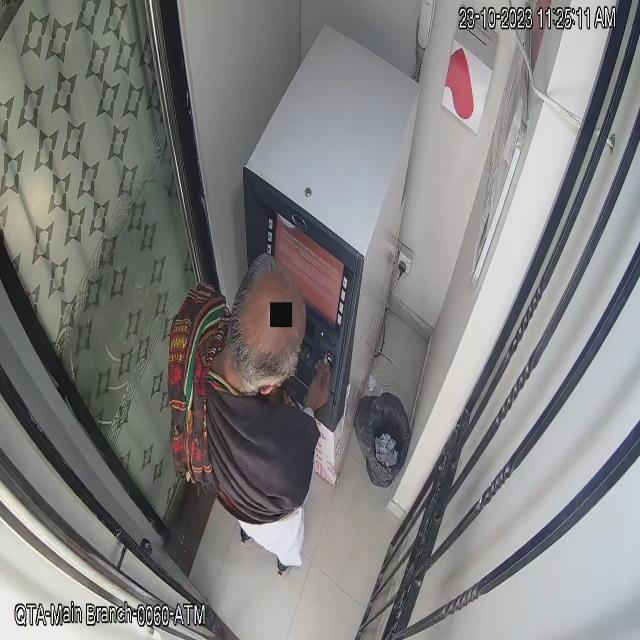atm-card: (319, 342, 336, 367), (321, 344, 337, 370)
